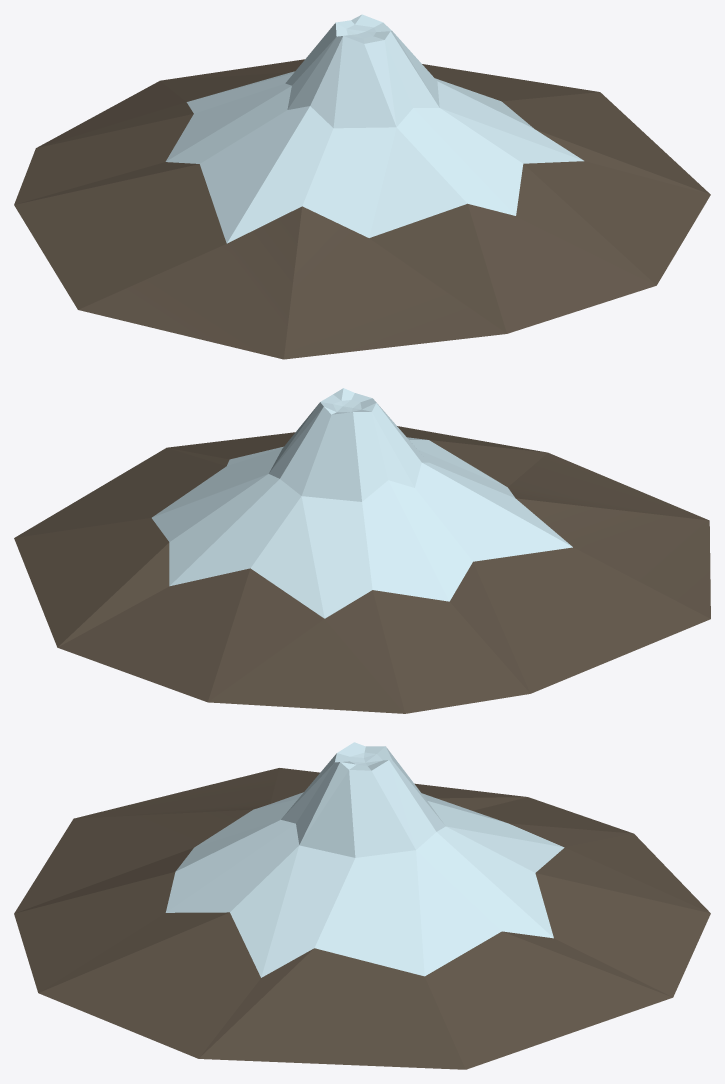
File: SM_Env_Samurai_Mountain_01_Snow.fbx
3 views of the same model, one above another, from view 1: azimuth 30°, elevation 25°; view 2: azimuth 150°, elevation 25°; view 3: azimuth 270°, elevation 25° (orthographic). The views are drawn at different scales.
Visible parts, largest first — view 1: SM_Env_Samurai_Mountain_01_Snow; view 2: SM_Env_Samurai_Mountain_01_Snow; view 3: SM_Env_Samurai_Mountain_01_Snow.
Boxes of the visible parts, <box> form: SM_Env_Samurai_Mountain_01_Snow: <box>14,14,710,359</box>; SM_Env_Samurai_Mountain_01_Snow: <box>14,388,710,713</box>; SM_Env_Samurai_Mountain_01_Snow: <box>14,742,710,1069</box>.
Size of the model in its own units: 335 by 89.96 by 326.
Materials: 1 (1 with a texture image).
